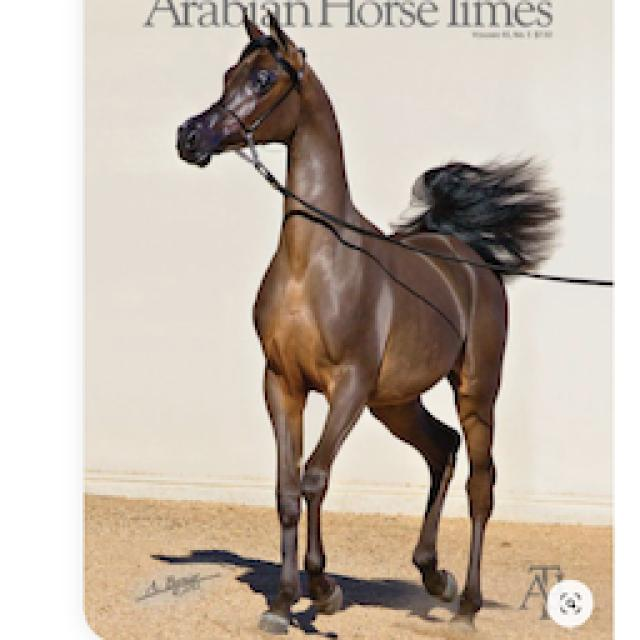Horse: (168, 8, 568, 638)
